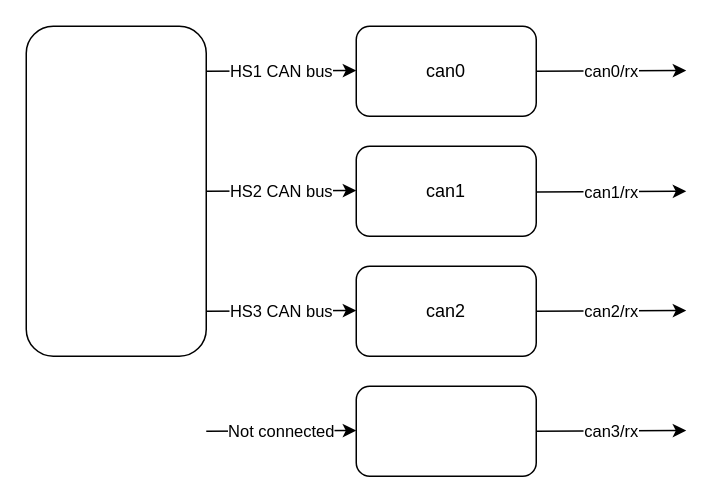
The diagram is 725 pixels wide and 503 high, and some of its shapes have lost their labels. Here are the shapes that lost their labels. From the top down, the centre of each, then its label:
the point at 115,190: vehicle gateway
the point at 445,430: can3
